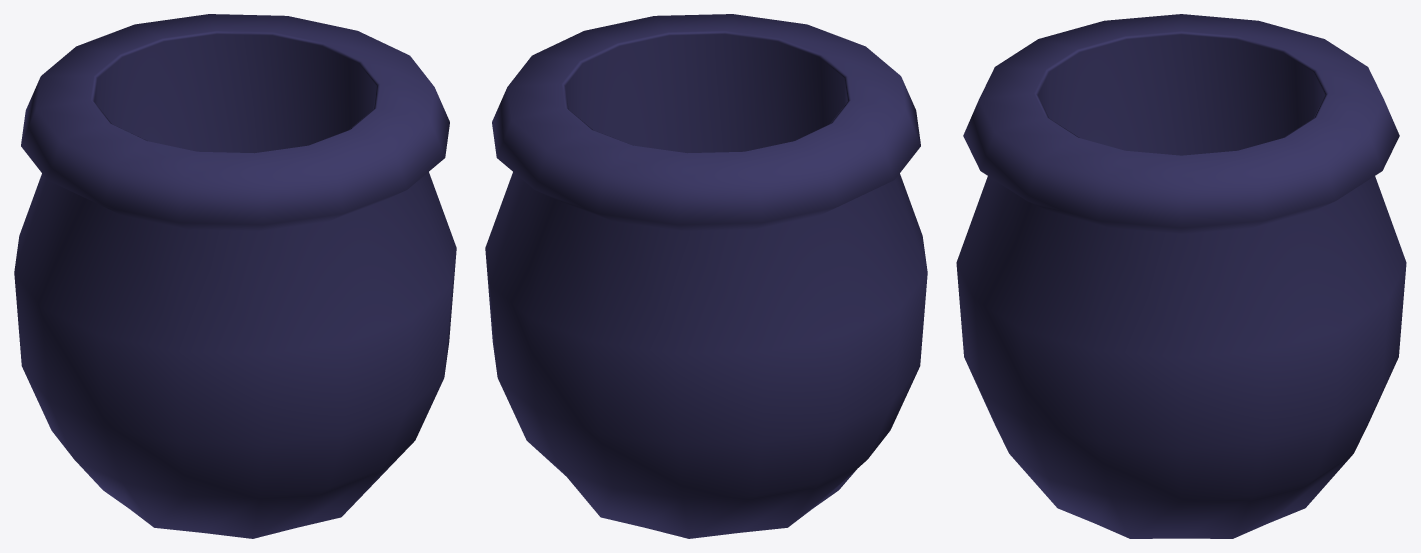
File: Jar_01.fbx
3 views of the same model, side by side, from view 1: azimuth 30°, elevation 25°; view 2: azimuth 150°, elevation 25°; view 3: azimuth 270°, elevation 25° (orthographic).
Parts seen in each view (by area): view 1: Jar_01; view 2: Jar_01; view 3: Jar_01.
Boxes of the visible parts, x1,y1,x2,y2 form: Jar_01: (14,14,456,538); Jar_01: (485,14,927,538); Jar_01: (956,14,1406,538).
Bounding box in the file's own units: 25.32 × 24.41 × 25.32.
